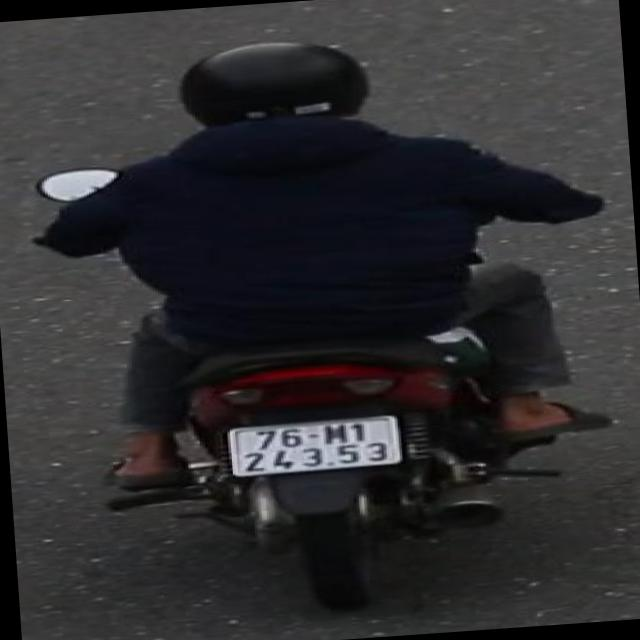LP: (208, 408, 426, 491)
helmet: (166, 30, 386, 137)
